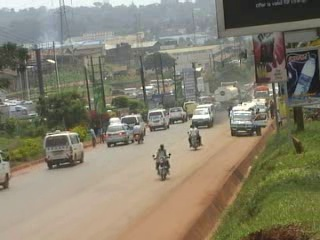Car: (104, 120, 136, 149)
Motorcycle: (150, 142, 173, 182), (186, 122, 204, 152), (132, 121, 146, 144)
